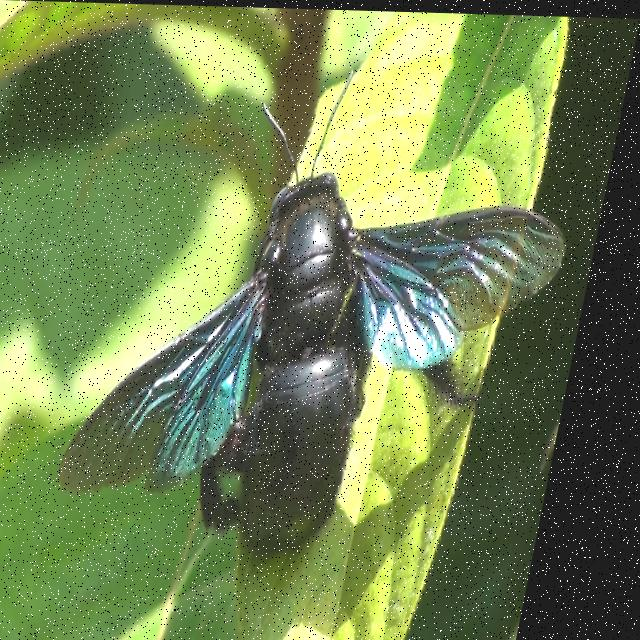Xylocopa: (50, 48, 610, 581)
